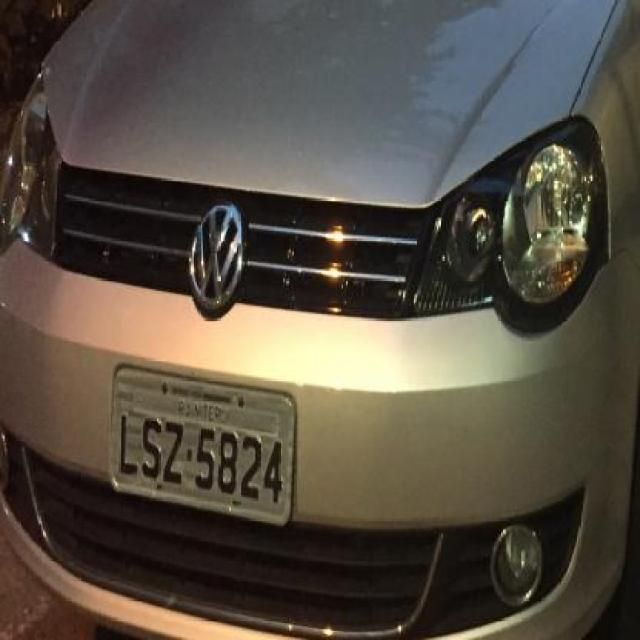old_plate: (100, 359, 303, 533)
